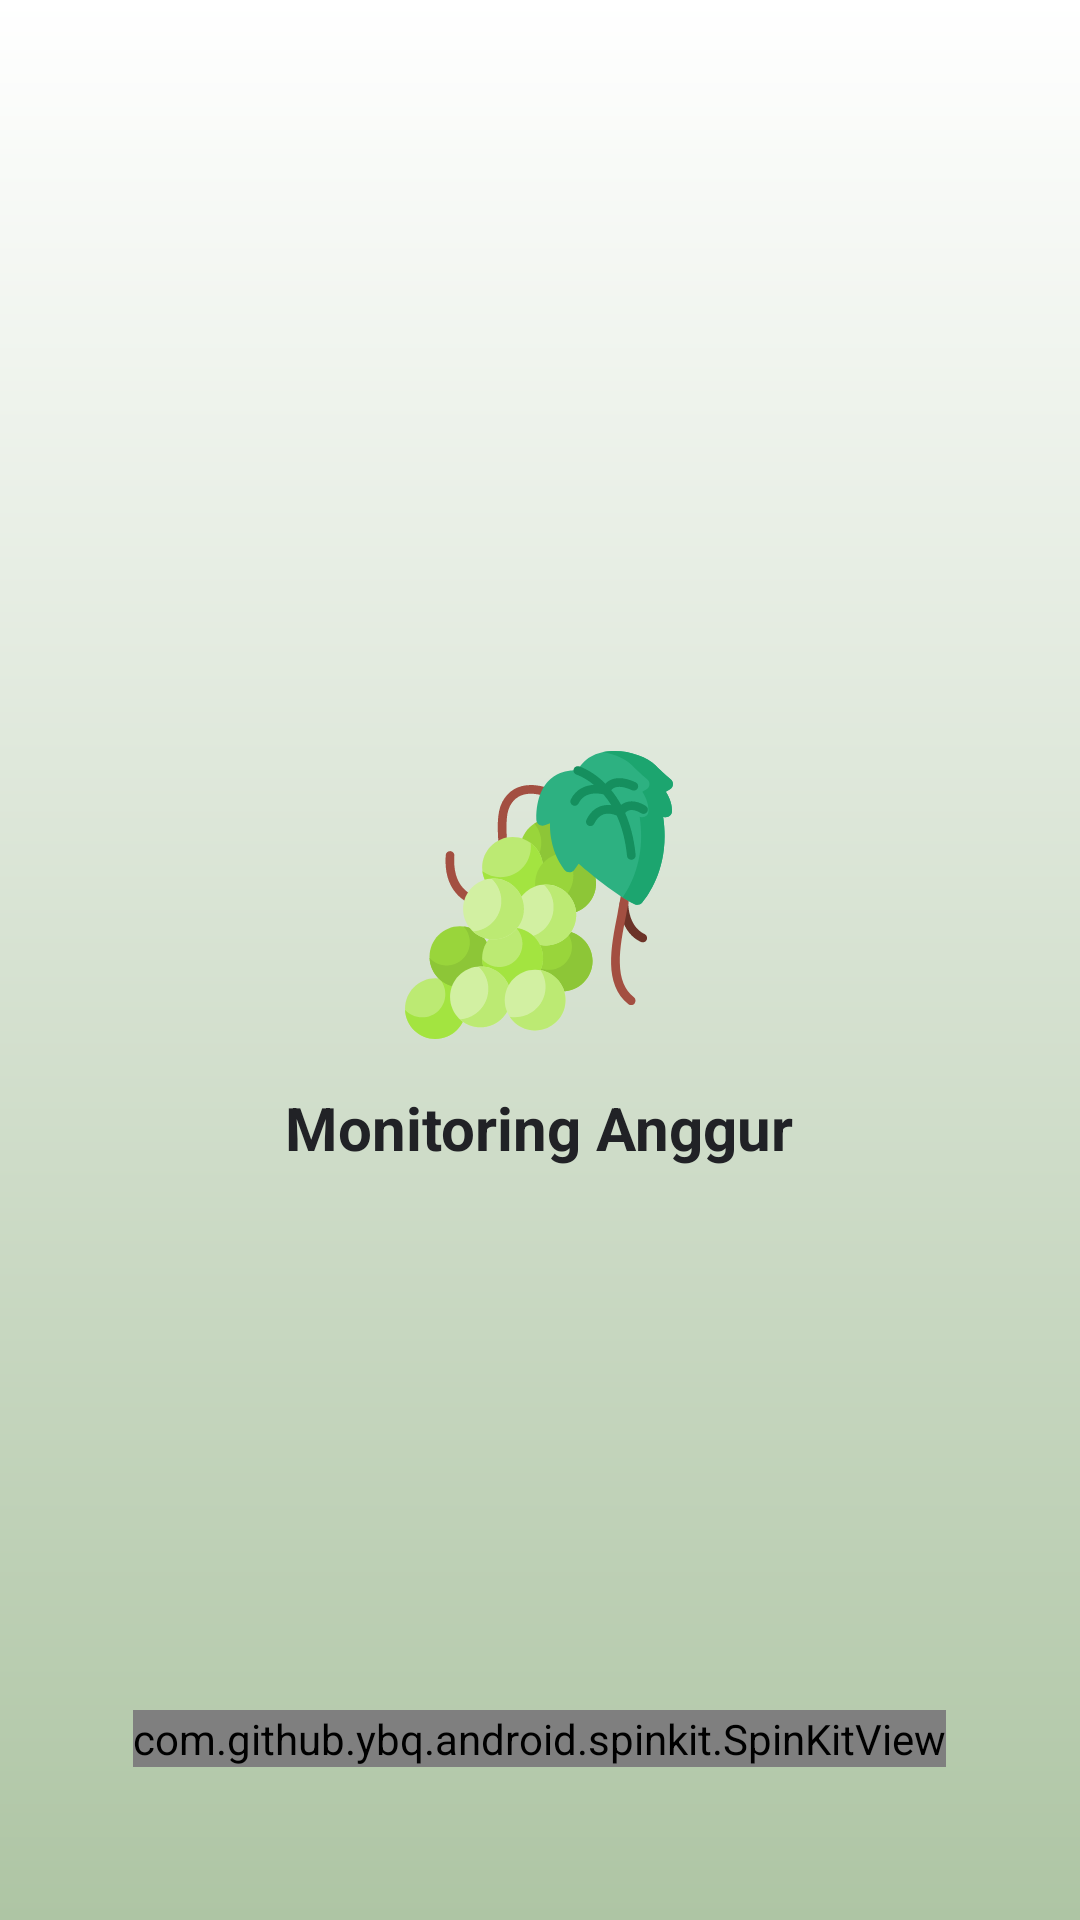

Named icons in this screenshot (1080 × 1920) and their centers, [x,y]:
grape: [539,895]
